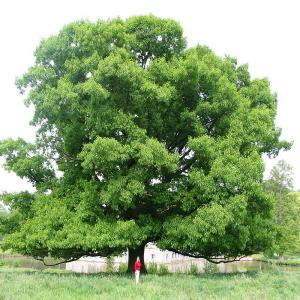Tree: (8, 8, 292, 272)
